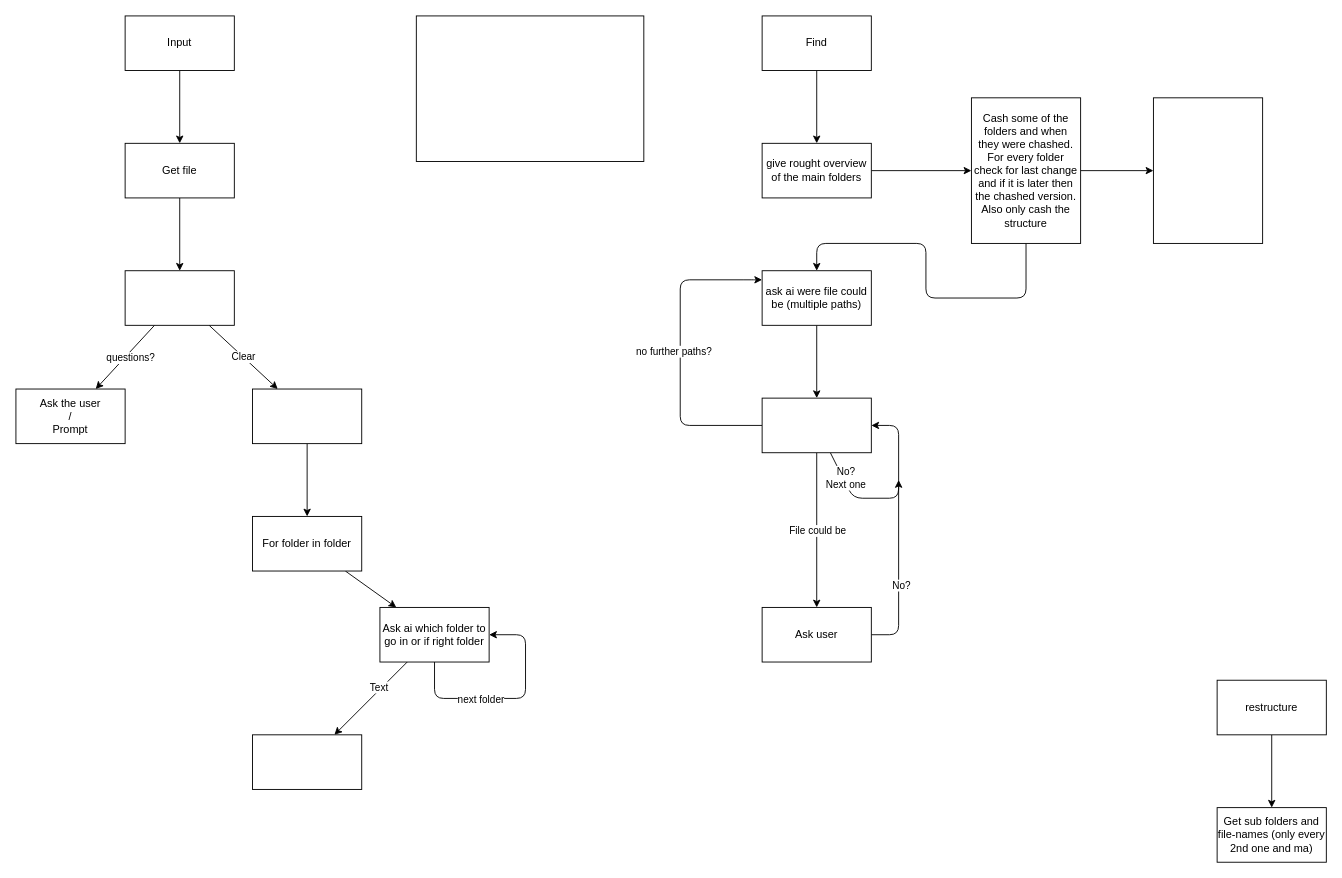
Some shapes in this 1342 by 878 pixel diagram are drawn without their labels. The shapes that lost their labels are listed below. From the top down, each one's box as (x1, y1, x2, y2) in pixels, then its label:
(415, 15, 644, 162): Features: automaticle input find items re structure things
(1153, 97, 1263, 243): Idea: send some of the filenames in the folde r too.
(124, 270, 234, 325): read file (file name)
(252, 388, 362, 444): get structure
(761, 397, 871, 453): go there and show the files the ai
(252, 734, 362, 789): Ask Use r
